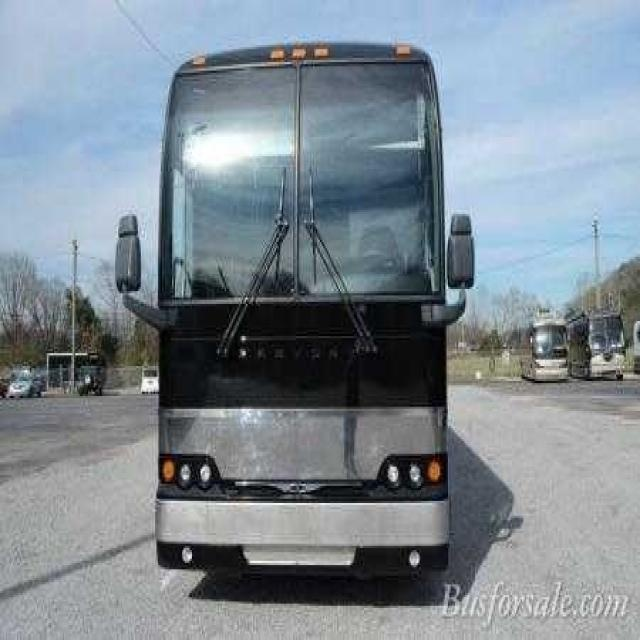Bus: (110, 36, 481, 612)
